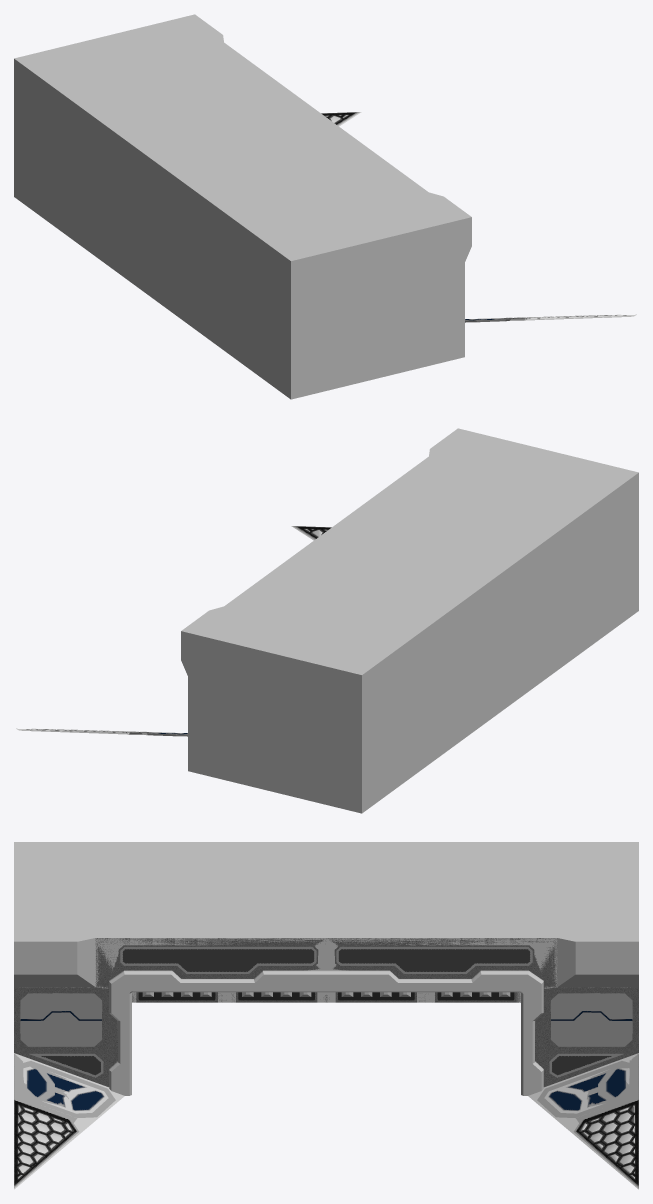
The model's file is Goal.fbx.
The picture shows the model from 3 angles, top to bottom: view 1: azimuth 30°, elevation 25°; view 2: azimuth 150°, elevation 25°; view 3: azimuth 270°, elevation 25°; orthographic projection. The views are drawn at different scales.
Visible parts, largest first — view 1: Goal_Med; view 2: Goal_Med; view 3: Goal_Med, Goal_Low.
Boxes of the visible parts, left/top/right/bottom form: Goal_Med: left=14, top=14, right=636, bottom=399; Goal_Med: left=16, top=428, right=638, bottom=813; Goal_Med: left=14, top=842, right=638, bottom=1189; Goal_Low: left=14, top=938, right=638, bottom=1187.
Size of the model in its own units: 50 by 19.09 by 68.93.
